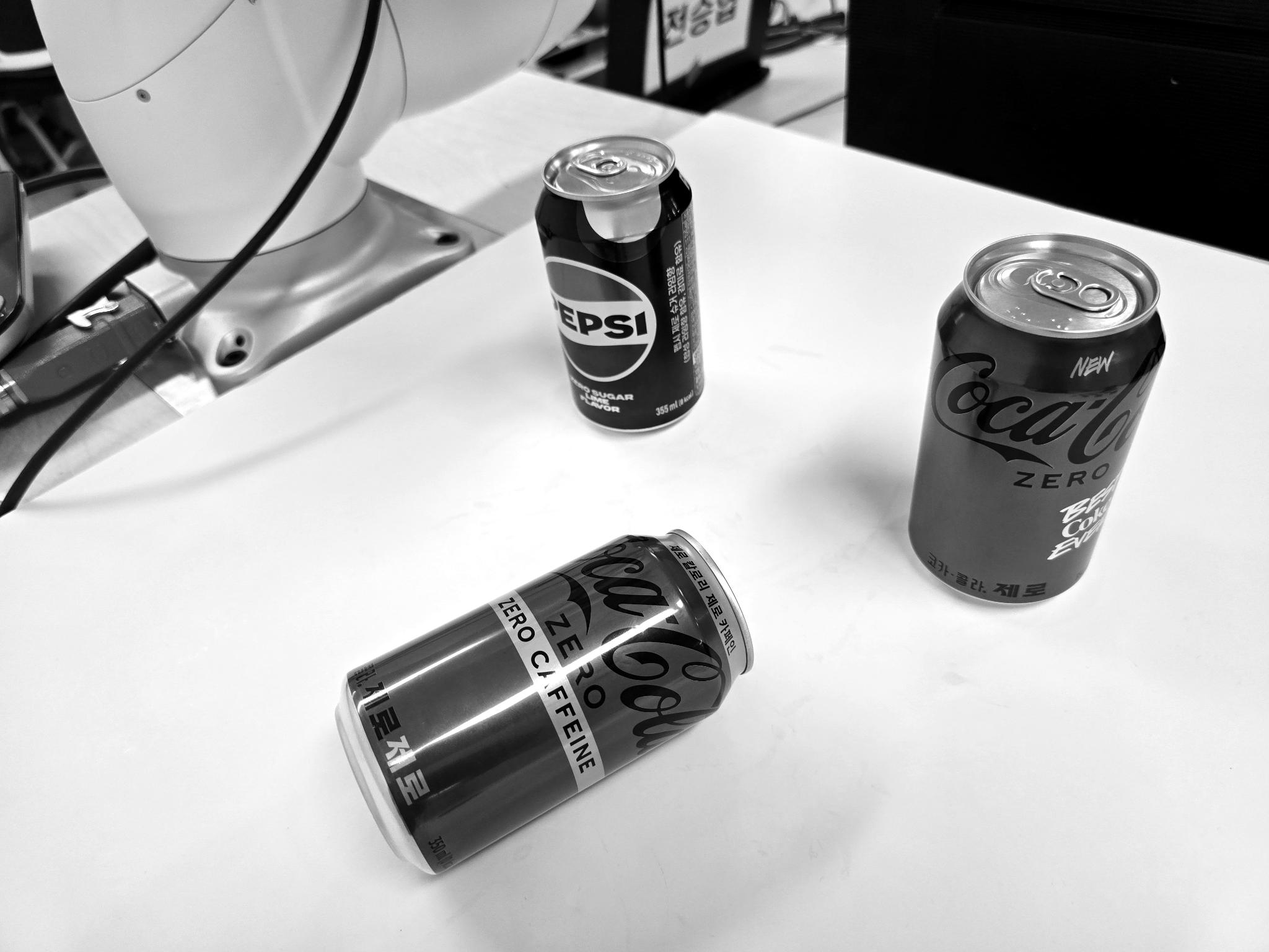can_coke_decaf: (328, 523, 753, 883)
can_coke_zero: (901, 234, 1171, 609)
can_pepsi_zero: (533, 130, 707, 432)
